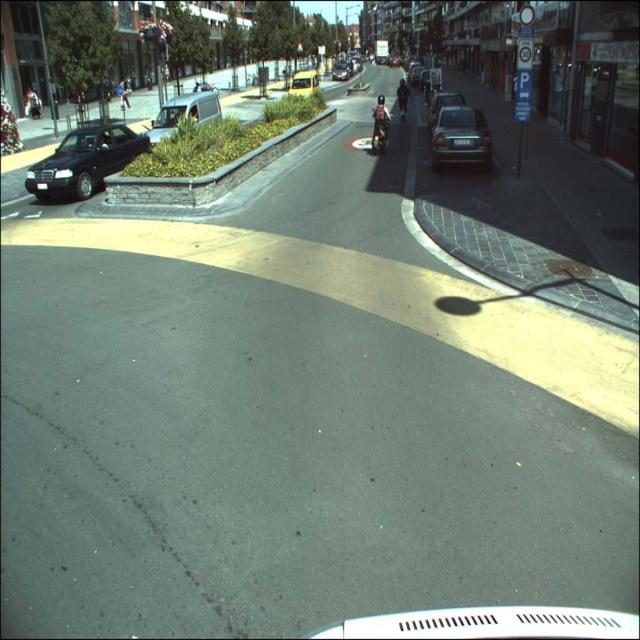park: (517, 70, 531, 101)
